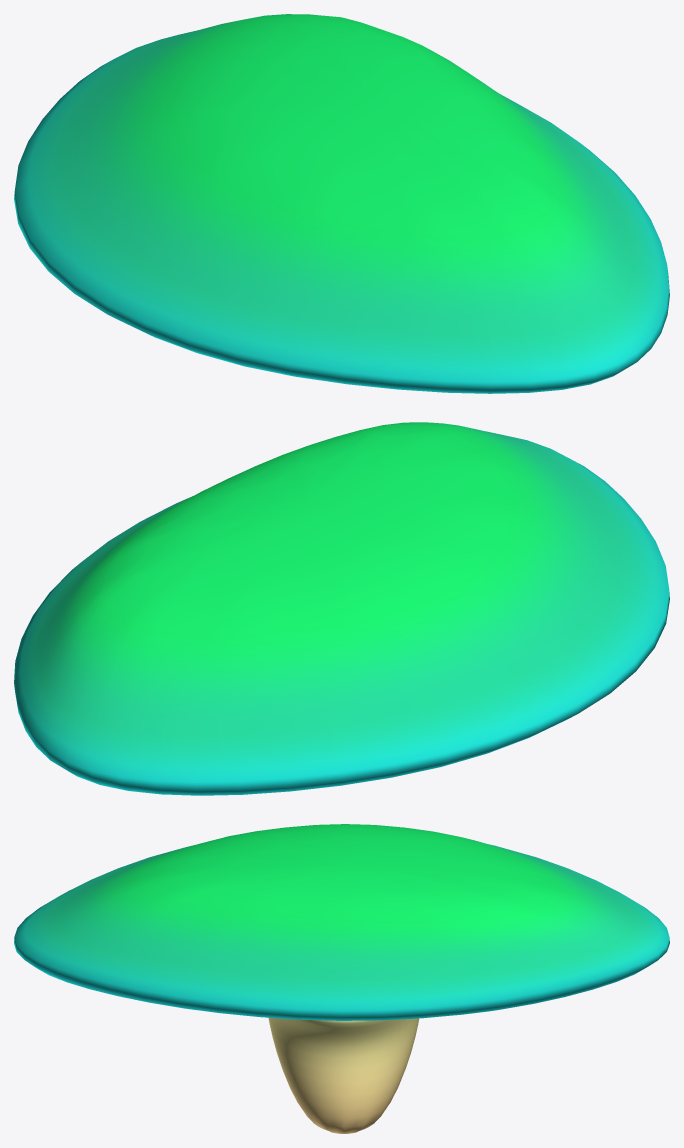
The model's file is WallMushroom.fbx.
3 renders of one model, top to bottom at view 1: azimuth 30°, elevation 25°; view 2: azimuth 150°, elevation 25°; view 3: azimuth 270°, elevation 25°, orthographic. The views are drawn at different scales.
Parts seen in each view (by area): view 1: MushroomCap.004; view 2: MushroomCap.004; view 3: MushroomCap.004, MushroomStem.004.
Part boxes in pixels (x1,y1,x2,y2): MushroomCap.004: (14,14,669,393); MushroomCap.004: (14,422,669,795); MushroomCap.004: (14,824,669,1020); MushroomStem.004: (268,1017,419,1133).
Bounding box in the file's own units: 758 × 431 × 1137.
